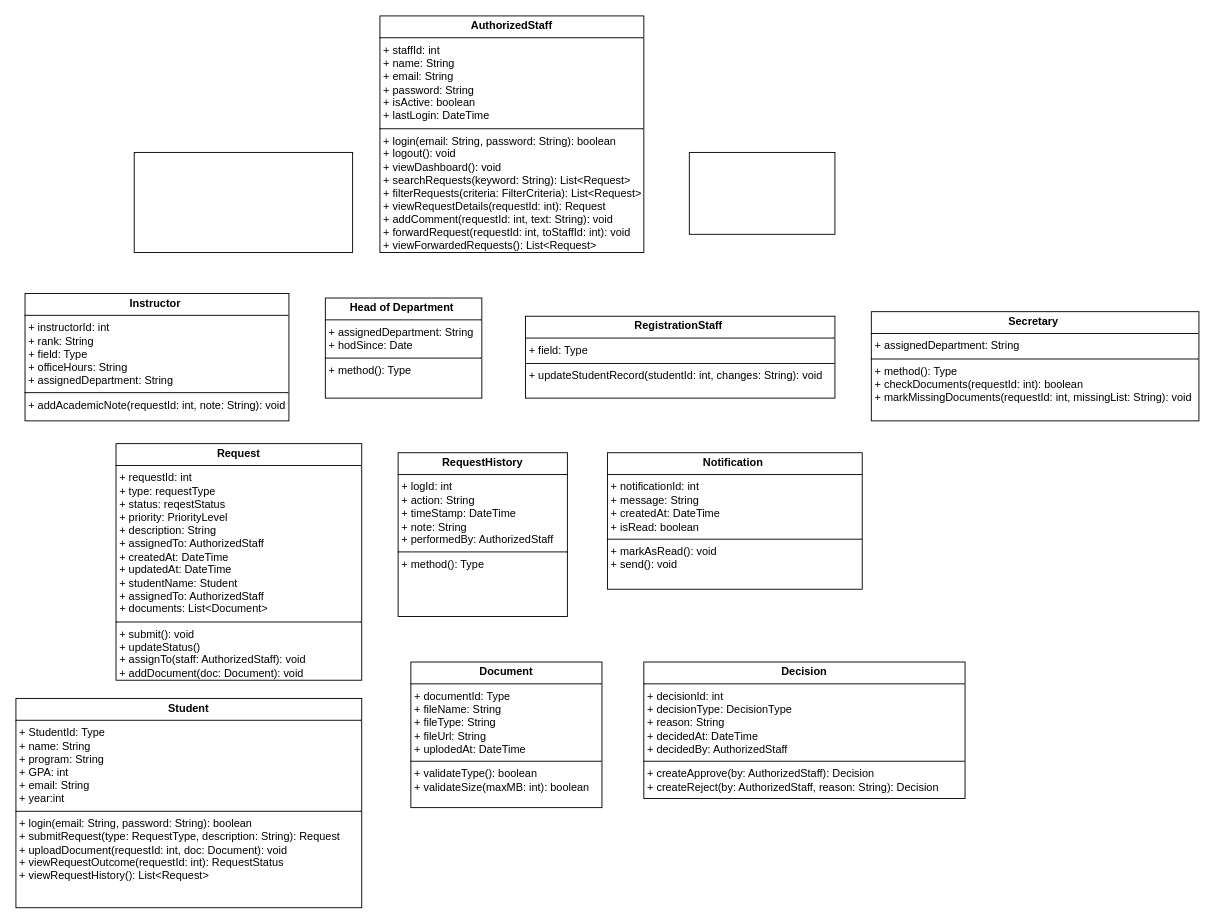
The diagram is 1215 pixels wide and 924 high, and some of its shapes have lost their labels. Here are the shapes that lost their labels. From the top down, the centre of each, then its label:
At pixel 243 202: "AcademicStaff + department: String + employeeNo: String + specialization: String".
At pixel 761 193: "AdministrativeStaff + office: String + method(): Type".
